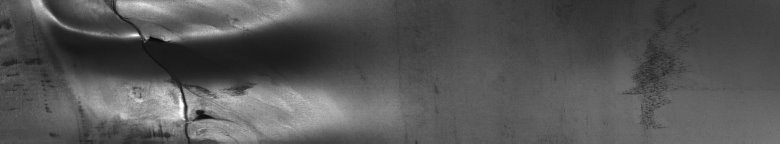ke: (5, 4, 271, 136)
